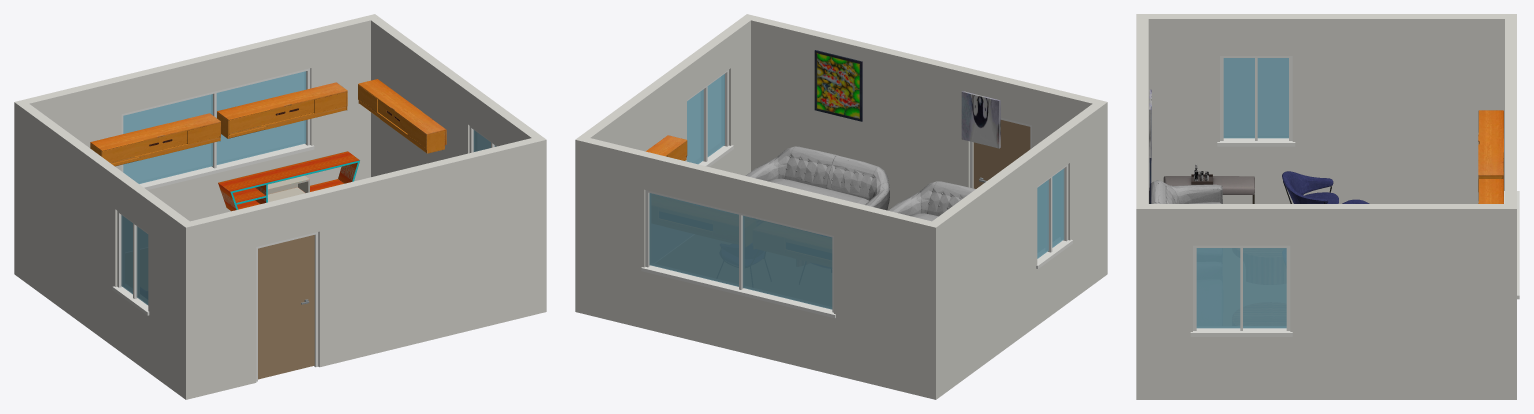
The model's file is holodeck.glb.
3 renders of one model, left to right at view 1: azimuth 30°, elevation 25°; view 2: azimuth 150°, elevation 25°; view 3: azimuth 270°, elevation 25°, orthographic. The views are drawn at different scales.
Visible parts, largest first — view 1: wall|scenesmith_068__R00|0, wall|scenesmith_068__R00|2, wall|scenesmith_068__R00|1, wall|scenesmith_068__R00|3, scenesmith_068__R00_10, wall|scenesmith_068__R00|1 Window 0 | glazing, wall|scenesmith_068__R00|0 Door 0 | wood leaf, scenesmith_068__R00_2, wall|scenesmith_068__R00|1 Window 0 | jamb, wall|scenesmith_068__R00|2 Window 0 | glazing, wall|scenesmith_068__R00|2 Window 0 | jamb, wall|scenesmith_068__R00|0 Door 0 | jamb; view 2: wall|scenesmith_068__R00|1, wall|scenesmith_068__R00|0, wall|scenesmith_068__R00|2, wall|scenesmith_068__R00|1 Window 0 | glazing, wall|scenesmith_068__R00|3, scenesmith_068__R00_0, scenesmith_068__R00_13, wall|scenesmith_068__R00|1 Window 0 | jamb, wall|scenesmith_068__R00|3 Window 0 | glazing, wall|scenesmith_068__R00|0 Door 0 | wood leaf, scenesmith_068__R00_14, wall|scenesmith_068__R00|2 Window 0 | glazing (+3 smaller); view 3: wall|scenesmith_068__R00|3, wall|scenesmith_068__R00|2, wall|scenesmith_068__R00|3 Window 0 | glazing, wall|scenesmith_068__R00|2 Window 0 | glazing, wall|scenesmith_068__R00|0, wall|scenesmith_068__R00|1, scenesmith_068__R00_10, wall|scenesmith_068__R00|3 Window 0 | jamb, wall|scenesmith_068__R00|2 Window 0 | jamb, scenesmith_068__R00_0, scenesmith_068__R00_6, glass_001.
Part boxes in pixels (x1,y1,x2,y2): wall|scenesmith_068__R00|0: (180, 138, 537, 399); wall|scenesmith_068__R00|2: (14, 99, 195, 399); wall|scenesmith_068__R00|1: (14, 14, 379, 277); wall|scenesmith_068__R00|3: (371, 18, 546, 313); scenesmith_068__R00_10: (90, 79, 446, 166); wall|scenesmith_068__R00|1 Window 0 | glazing: (123, 71, 306, 183); wall|scenesmith_068__R00|0 Door 0 | wood leaf: (258, 235, 314, 379); scenesmith_068__R00_2: (218, 151, 359, 211); wall|scenesmith_068__R00|1 Window 0 | jamb: (121, 68, 314, 189); wall|scenesmith_068__R00|2 Window 0 | glazing: (121, 215, 148, 305); wall|scenesmith_068__R00|2 Window 0 | jamb: (112, 211, 149, 315); wall|scenesmith_068__R00|0 Door 0 | jamb: (256, 232, 318, 381); wall|scenesmith_068__R00|1: (575, 136, 941, 399); wall|scenesmith_068__R00|0: (751, 16, 1107, 277); wall|scenesmith_068__R00|2: (927, 99, 1107, 395); wall|scenesmith_068__R00|1 Window 0 | glazing: (649, 193, 832, 309); wall|scenesmith_068__R00|3: (581, 14, 755, 175); scenesmith_068__R00_0: (746, 146, 975, 221); scenesmith_068__R00_13: (814, 50, 862, 121); wall|scenesmith_068__R00|1 Window 0 | jamb: (641, 190, 835, 318); wall|scenesmith_068__R00|3 Window 0 | glazing: (687, 74, 724, 164); wall|scenesmith_068__R00|0 Door 0 | wood leaf: (973, 120, 1030, 188); scenesmith_068__R00_14: (961, 91, 1000, 148); wall|scenesmith_068__R00|2 Window 0 | glazing: (1037, 168, 1064, 258); wall|scenesmith_068__R00|3: (1136, 204, 1504, 399); wall|scenesmith_068__R00|2: (1136, 14, 1516, 203); wall|scenesmith_068__R00|3 Window 0 | glazing: (1196, 248, 1286, 328); wall|scenesmith_068__R00|2 Window 0 | glazing: (1223, 58, 1288, 138); wall|scenesmith_068__R00|0: (1136, 19, 1148, 399); wall|scenesmith_068__R00|1: (1505, 19, 1516, 399); scenesmith_068__R00_10: (1478, 110, 1503, 203); wall|scenesmith_068__R00|3 Window 0 | jamb: (1190, 245, 1292, 336); wall|scenesmith_068__R00|2 Window 0 | jamb: (1217, 56, 1295, 146); scenesmith_068__R00_0: (1149, 180, 1222, 203); scenesmith_068__R00_6: (1282, 171, 1369, 203); glass_001: (1163, 164, 1254, 203).
Bounding box in the file's own units: 5.76 × 2.61 × 4.73.
Materials: 14 (8 with a texture image).
